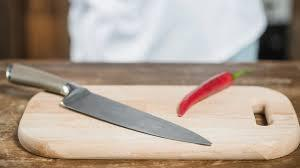Knife: (5, 62, 212, 146)
